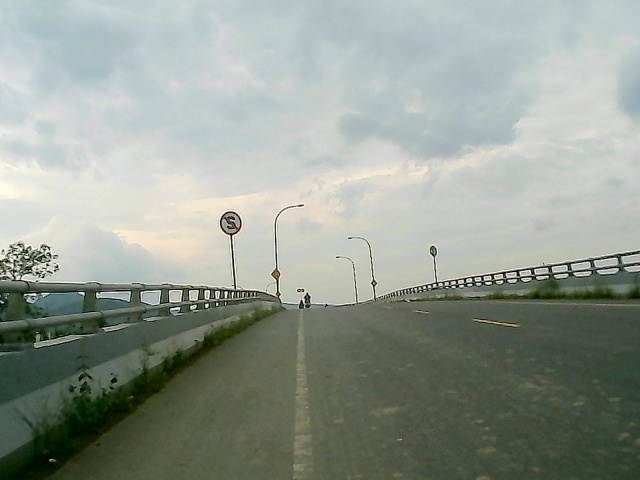Dilarang berhenti: (217, 209, 244, 239)
